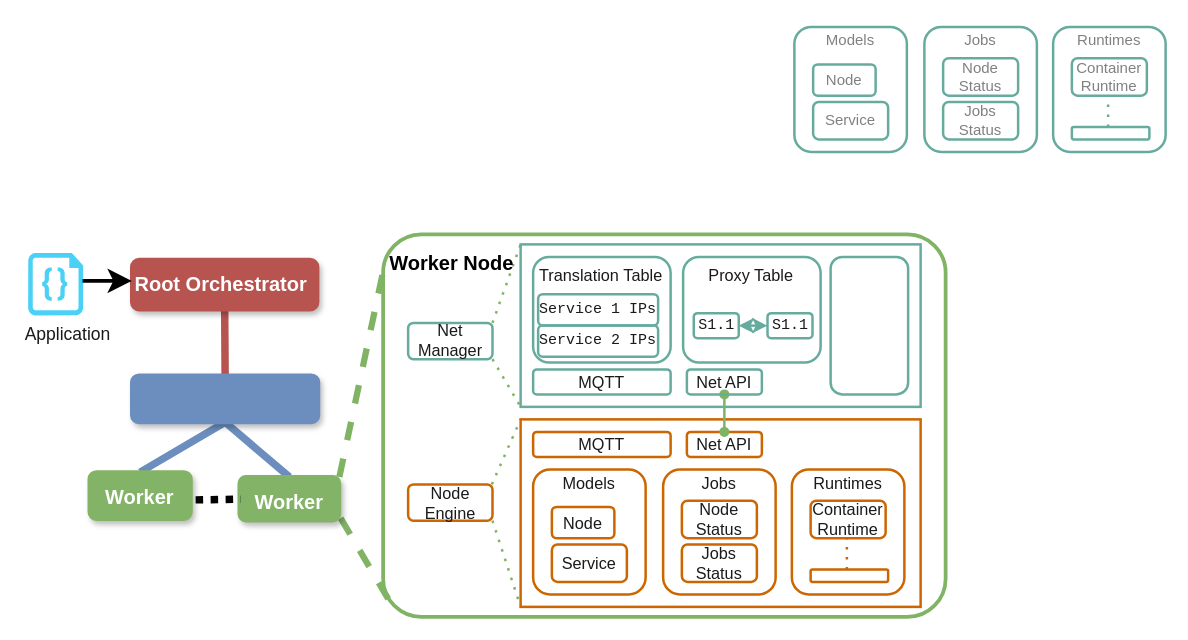
This 1188x640 diagram has some shape labels left out. The centre of each missing label's shape, as x and y in pixels:
"Cluster Orchestrator" goes at pixel 225 400.
"Env. Manager" goes at pixel 869 325.
